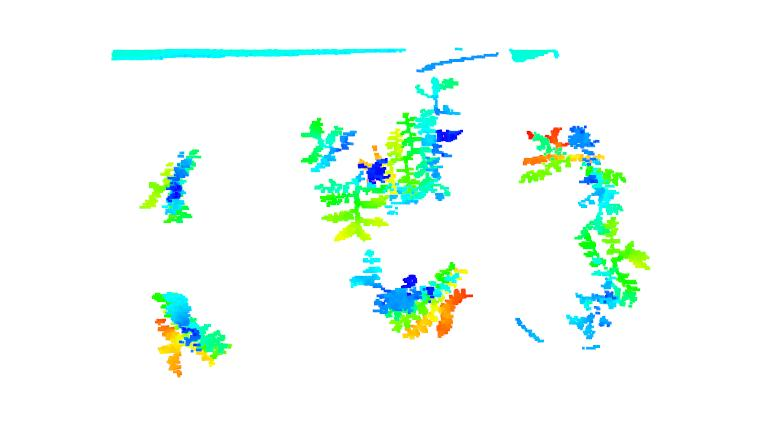chickpea: (380, 75, 467, 215), (349, 246, 473, 342), (514, 123, 631, 223), (295, 121, 386, 245), (567, 219, 649, 338), (148, 285, 230, 380), (139, 148, 206, 223)
